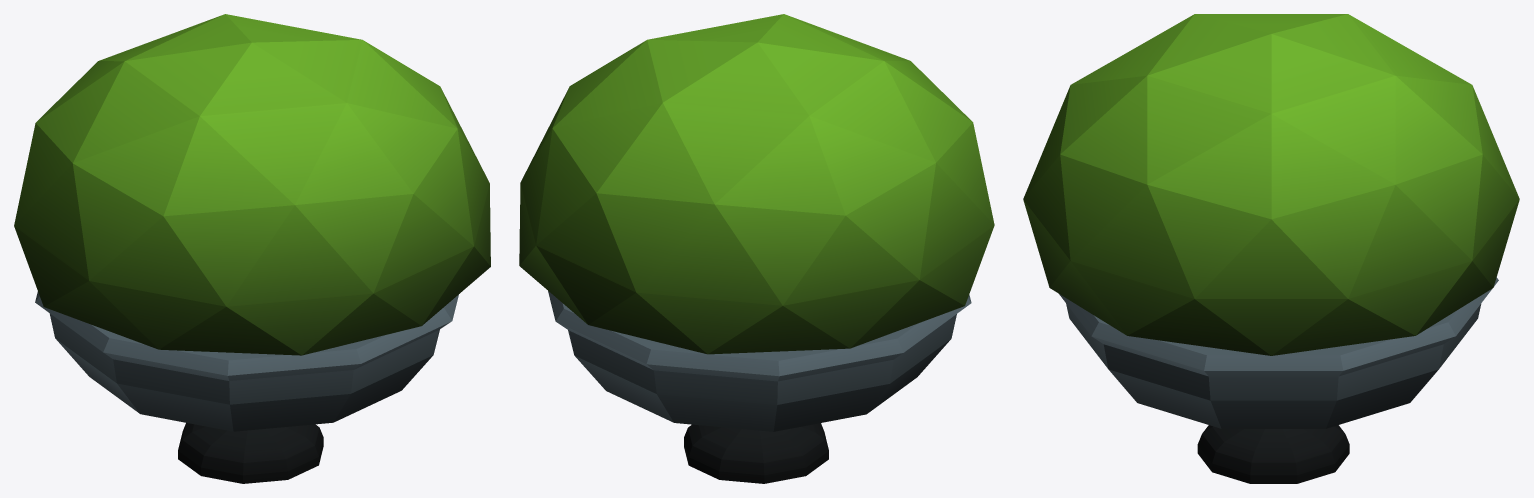
Rendered from RoundVase_Green.fbx.
3 renders of one model, left to right at view 1: azimuth 30°, elevation 25°; view 2: azimuth 150°, elevation 25°; view 3: azimuth 270°, elevation 25°, orthographic. The views are drawn at different scales.
Parts seen in each view (by area): view 1: RoundVase_Green; view 2: RoundVase_Green; view 3: RoundVase_Green.
Boxes of the visible parts, bbox=[...] form: RoundVase_Green: bbox=[14, 14, 490, 483]; RoundVase_Green: bbox=[519, 14, 994, 483]; RoundVase_Green: bbox=[1023, 14, 1519, 483].
Size of the model in its own units: 315 by 302 by 325.
